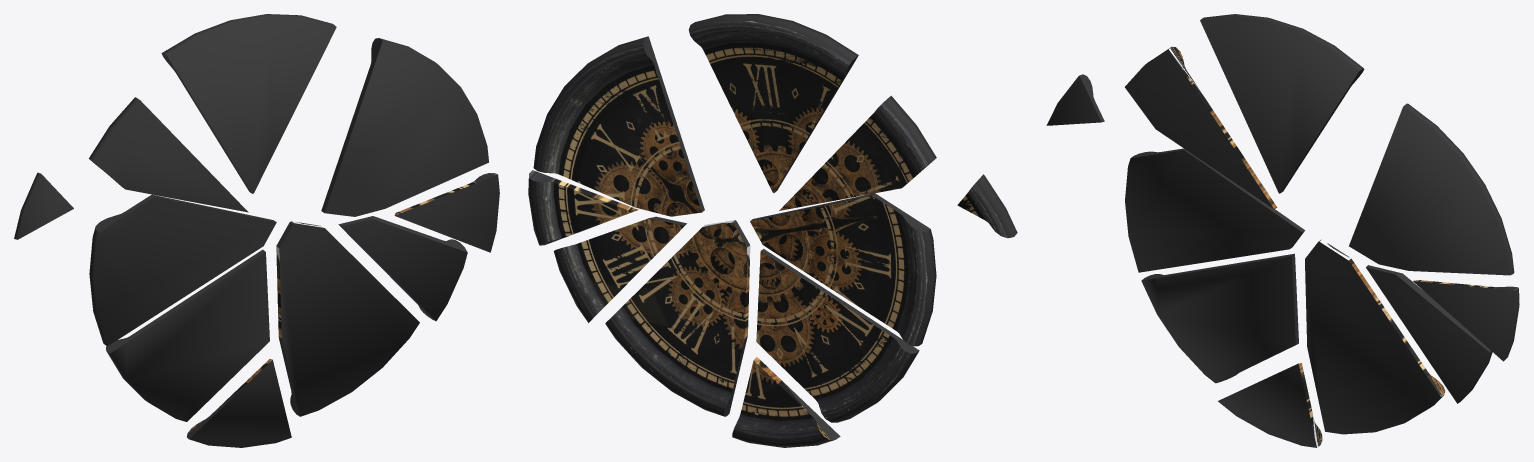
3 renders of one model, left to right at view 1: azimuth 30°, elevation 25°; view 2: azimuth 150°, elevation 25°; view 3: azimuth 330°, elevation 25°, orthographic. The views are drawn at different scales.
Visible parts, largest first — view 1: Clock_cell, Clock_cell.006, Clock_cell.005, Clock_cell.009, Clock_cell.003, Clock_cell.008, Clock_cell.004, Clock_cell.007, Clock_cell.002, Clock_cell.001; view 2: Clock_cell, Clock_cell.006, Clock_cell.009, Clock_cell.005, Clock_cell.003, Clock_cell.008, Clock_cell.004, Clock_cell.007, Clock_cell.002, Clock_cell.001; view 3: Clock_cell, Clock_cell.006, Clock_cell.005, Clock_cell.009, Clock_cell.003, Clock_cell.008, Clock_cell.004, Clock_cell.007, Clock_cell.002, Clock_cell.001.
Part boxes in pixels (bbox=[...]): Clock_cell: bbox=[321, 38, 488, 216]; Clock_cell.006: bbox=[276, 221, 419, 416]; Clock_cell.005: bbox=[161, 14, 336, 193]; Clock_cell.009: bbox=[89, 194, 276, 346]; Clock_cell.003: bbox=[106, 249, 269, 421]; Clock_cell.008: bbox=[89, 97, 248, 212]; Clock_cell.004: bbox=[338, 216, 467, 321]; Clock_cell.007: bbox=[187, 359, 291, 447]; Clock_cell.002: bbox=[394, 173, 499, 252]; Clock_cell.001: bbox=[14, 172, 73, 239]; Clock_cell: bbox=[533, 36, 704, 216]; Clock_cell.006: bbox=[605, 220, 750, 416]; Clock_cell.009: bbox=[750, 193, 936, 346]; Clock_cell.005: bbox=[688, 14, 858, 192]; Clock_cell.003: bbox=[756, 249, 919, 422]; Clock_cell.008: bbox=[779, 95, 936, 210]; Clock_cell.004: bbox=[553, 216, 686, 322]; Clock_cell.007: bbox=[732, 357, 840, 447]; Clock_cell.002: bbox=[528, 170, 638, 245]; Clock_cell.001: bbox=[957, 174, 1017, 238]; Clock_cell: bbox=[1349, 103, 1514, 275]; Clock_cell.006: bbox=[1305, 239, 1444, 434]; Clock_cell.005: bbox=[1200, 14, 1364, 193]; Clock_cell.009: bbox=[1125, 148, 1304, 272]; Clock_cell.003: bbox=[1141, 253, 1298, 383]; Clock_cell.008: bbox=[1125, 46, 1277, 209]; Clock_cell.004: bbox=[1366, 265, 1492, 403]; Clock_cell.007: bbox=[1218, 363, 1322, 447]; Clock_cell.002: bbox=[1413, 280, 1519, 361]; Clock_cell.001: bbox=[1046, 74, 1104, 125].
Bounding box in the file's own units: 5.56 × 4.72 × 0.2475.
